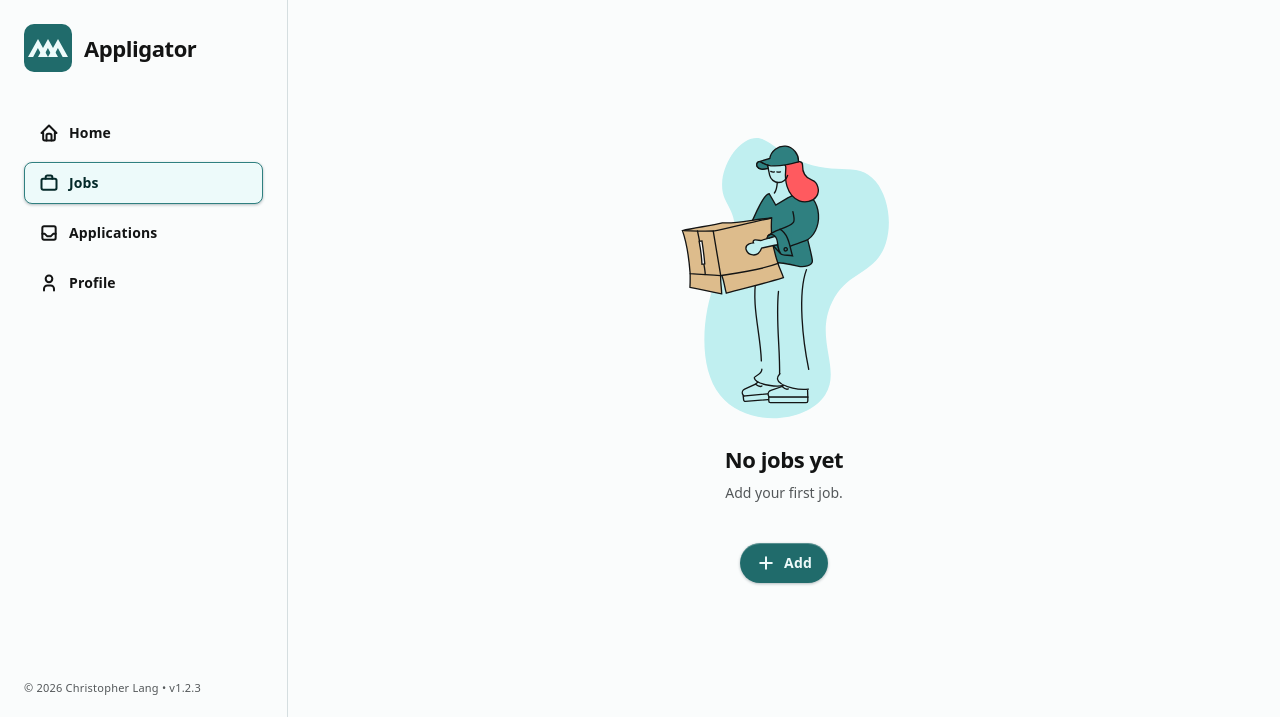
it: adds a job and opens it
Click the button "Add" at (784, 562), box [740,542,828,582]
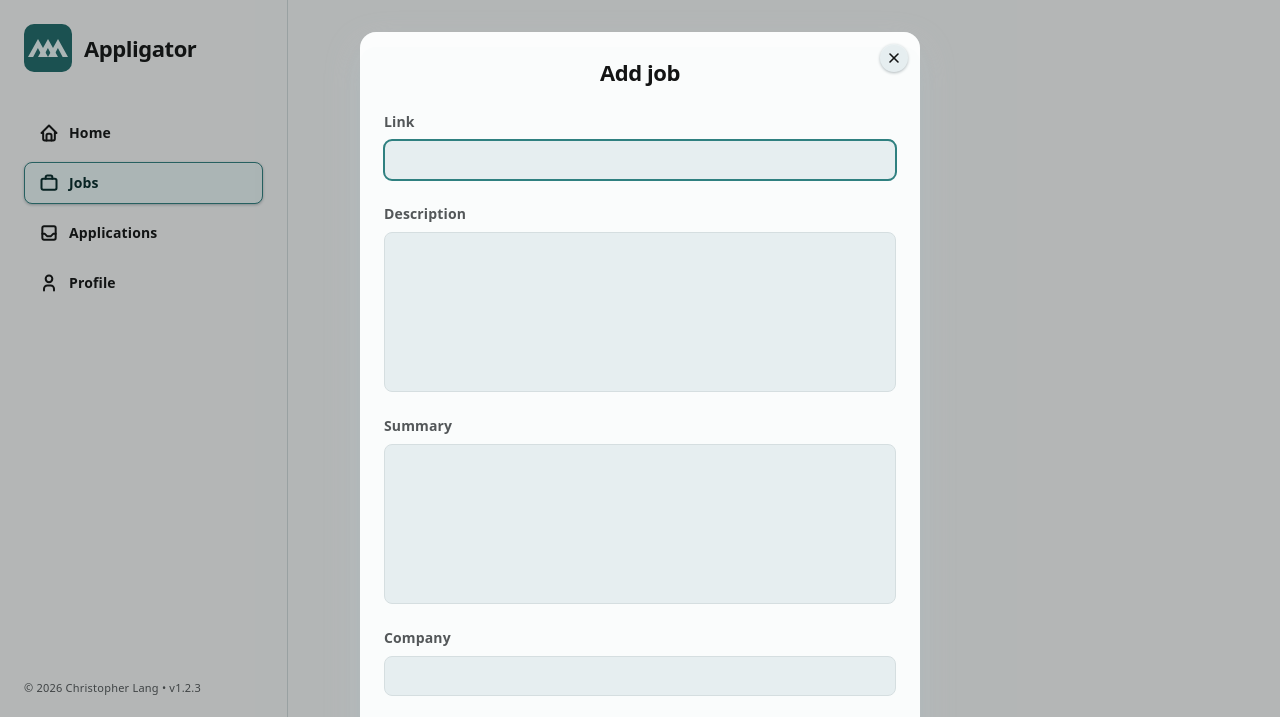
Type "stepstone.de/1" into the field labelled "Link" at (640, 160), box [384,140,896,180]
Type "Initech GmbH" into the field labelled "Company" at (640, 676), box [384,656,896,696]
(page scrolled)
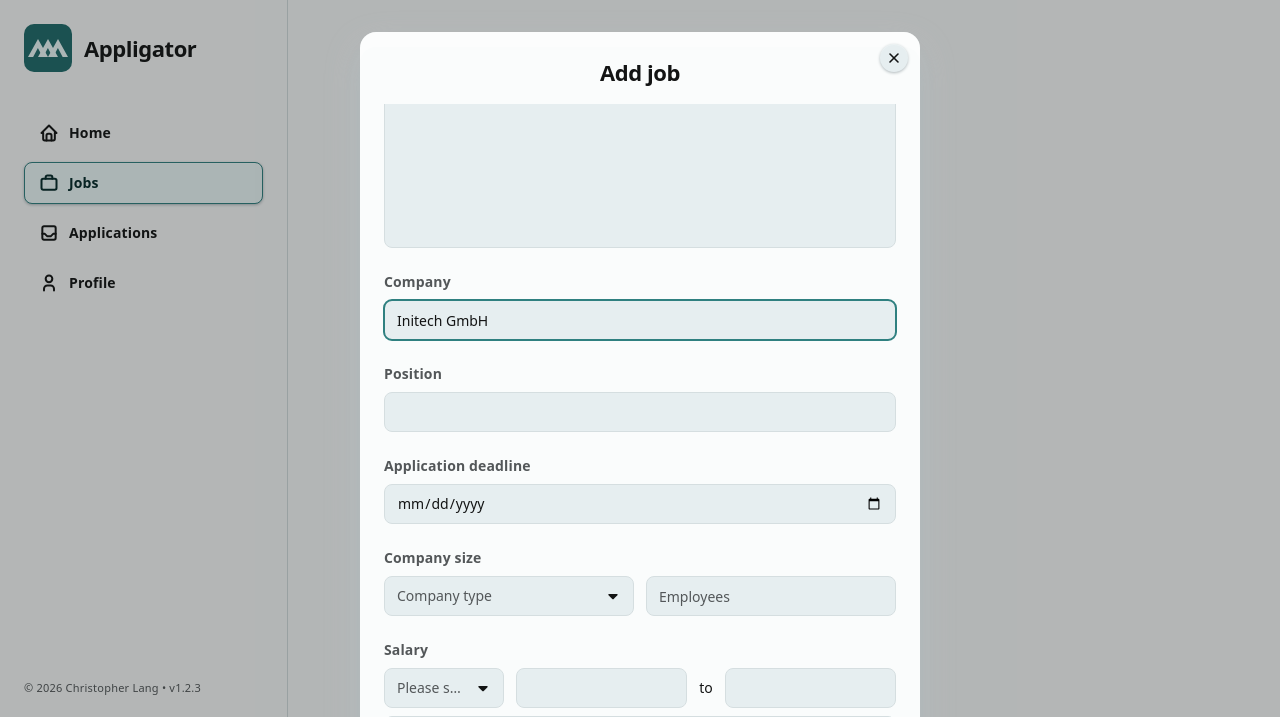
Type "Frontend Developer" into the field labelled "Position" at (640, 412), box [384,392,896,432]
(page scrolled)
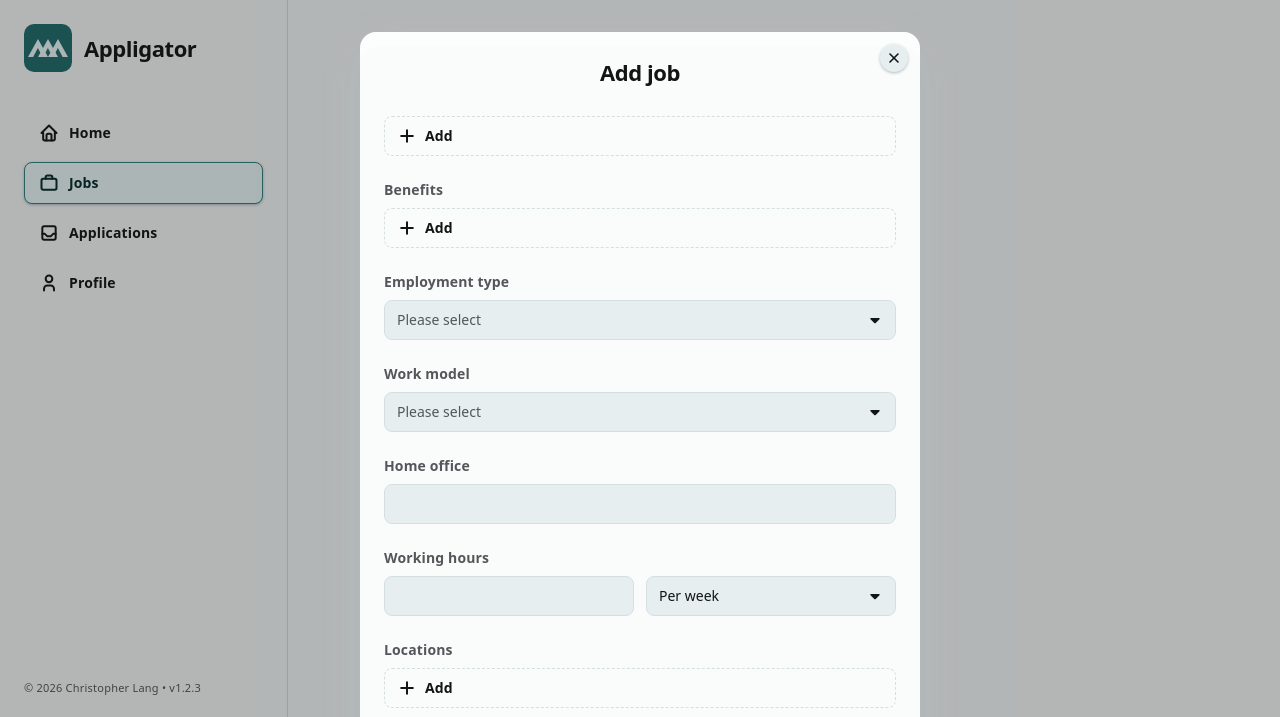
Click the dropdown named "Work model" at (439, 412), box [384,392,896,432]
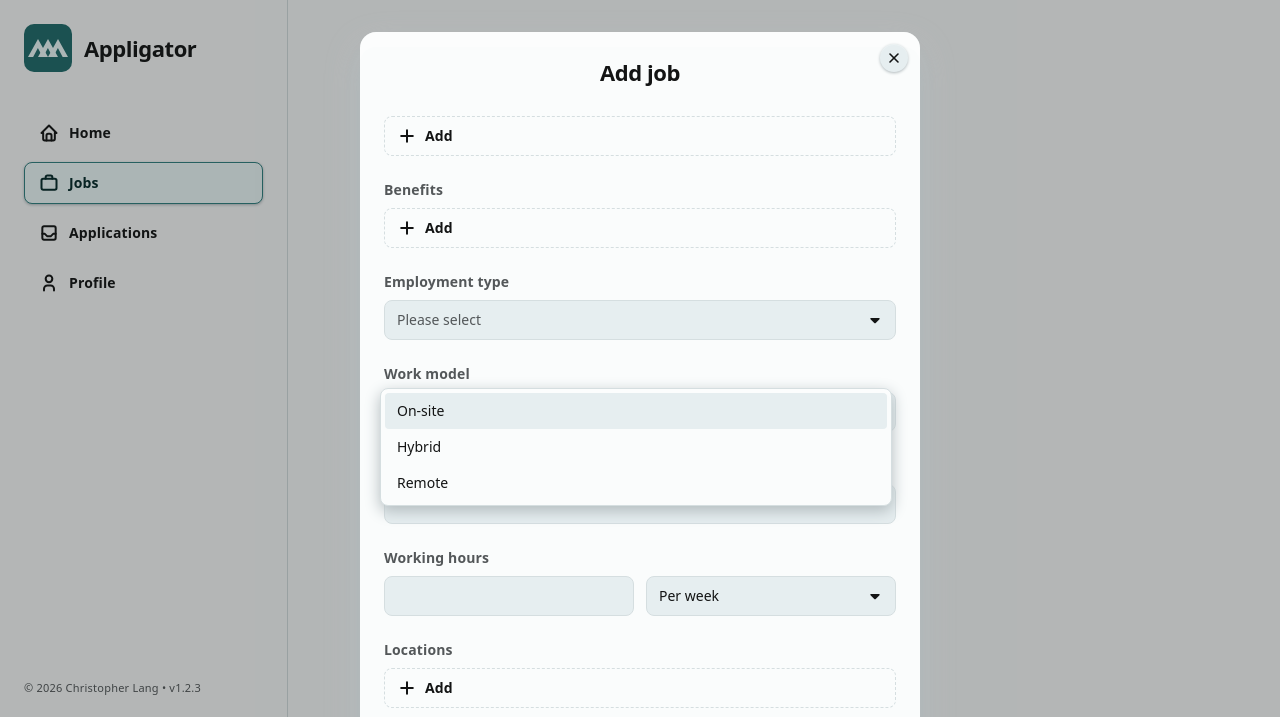
Click the option "Remote" at (423, 482), box [397,473,448,492]
(page scrolled)
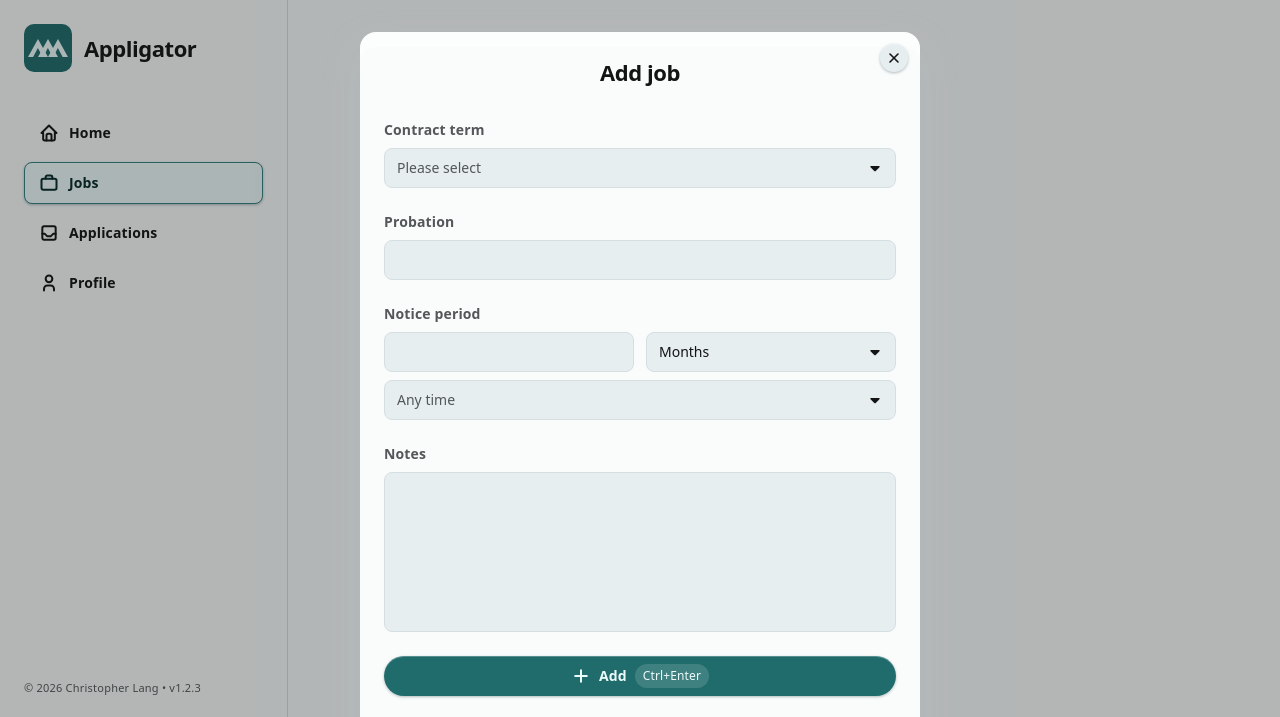
Click the button "Add Ctrl+Enter" at (640, 676), box [384,656,896,696]
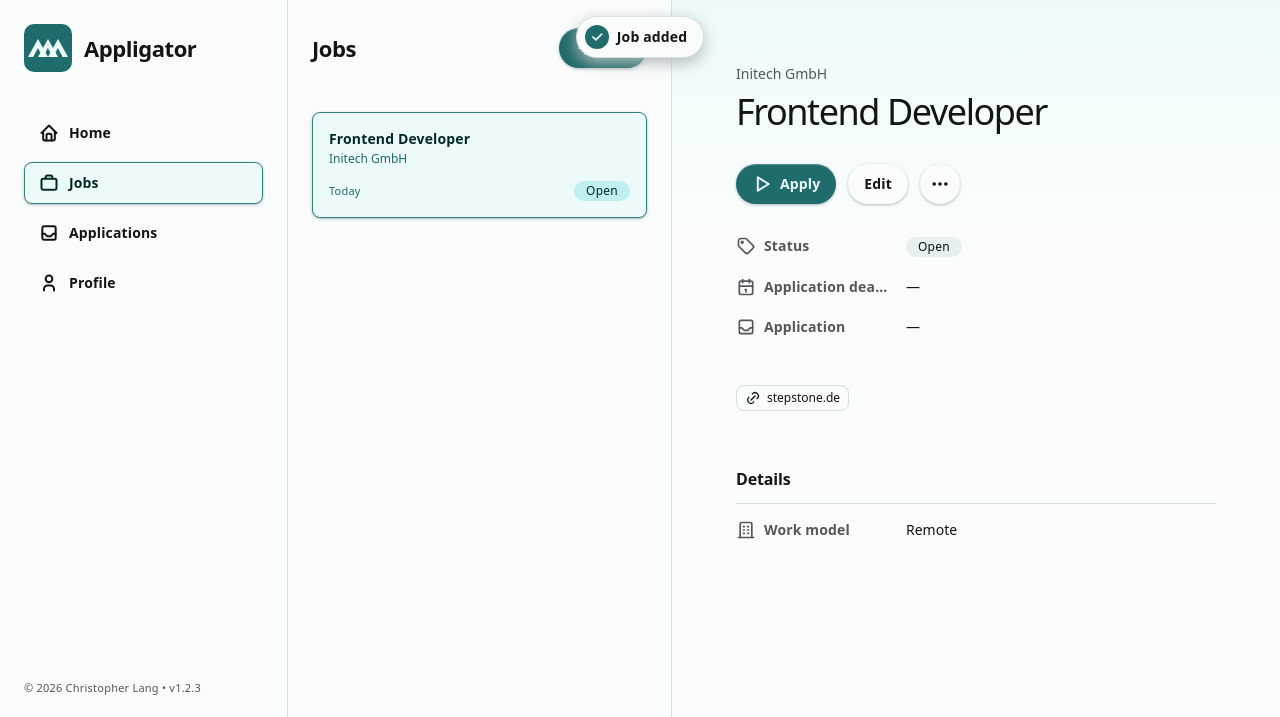
Check: the heading "Frontend Developer" is shown, box [736,87,1047,136]
Check: the heading "Add job" is gone
Check: the heading "Job added" is shown, box [617,27,687,47]
